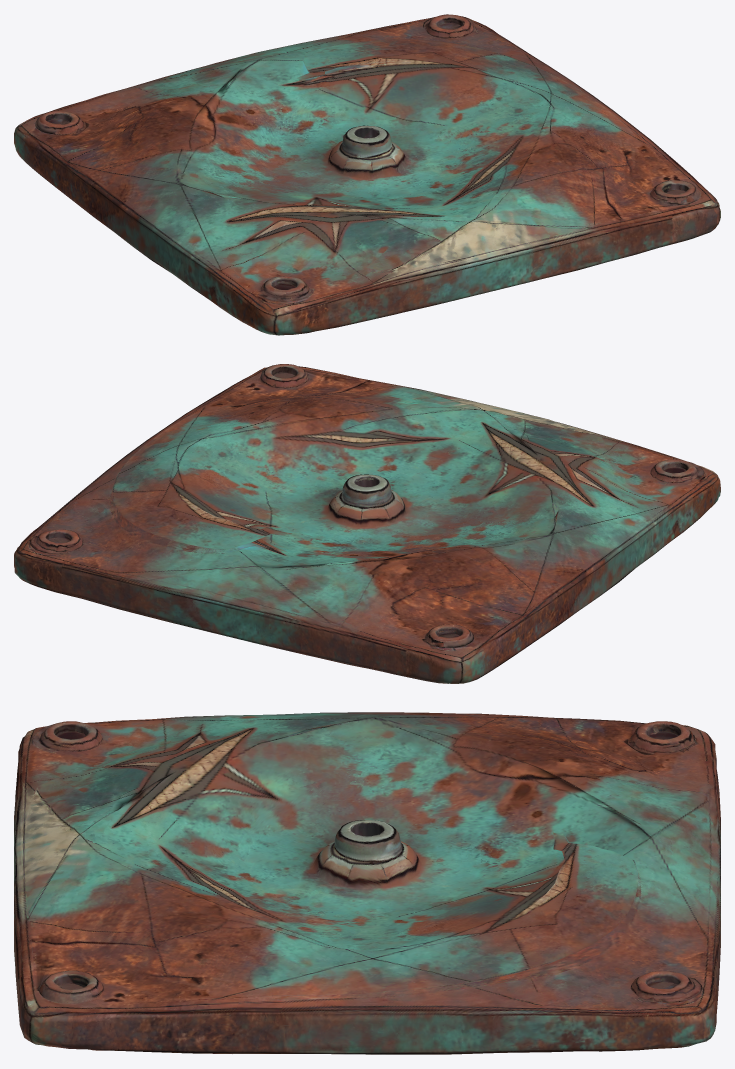
File: Meshy_AI_pan_0330101456_texture.fbx
3 renders of one model, top to bottom at view 1: azimuth 30°, elevation 25°; view 2: azimuth 150°, elevation 25°; view 3: azimuth 270°, elevation 25°, orthographic. The views are drawn at different scales.
Visible parts, largest first — view 1: Mesh_0; view 2: Mesh_0; view 3: Mesh_0.
Boxes of the visible parts, <box> form: Mesh_0: <box>14,14,720,335</box>; Mesh_0: <box>14,364,720,683</box>; Mesh_0: <box>14,712,720,1054</box>.
Size of the model in its own units: 191 by 25.05 by 190.
Materials: 1 (1 with a texture image).
